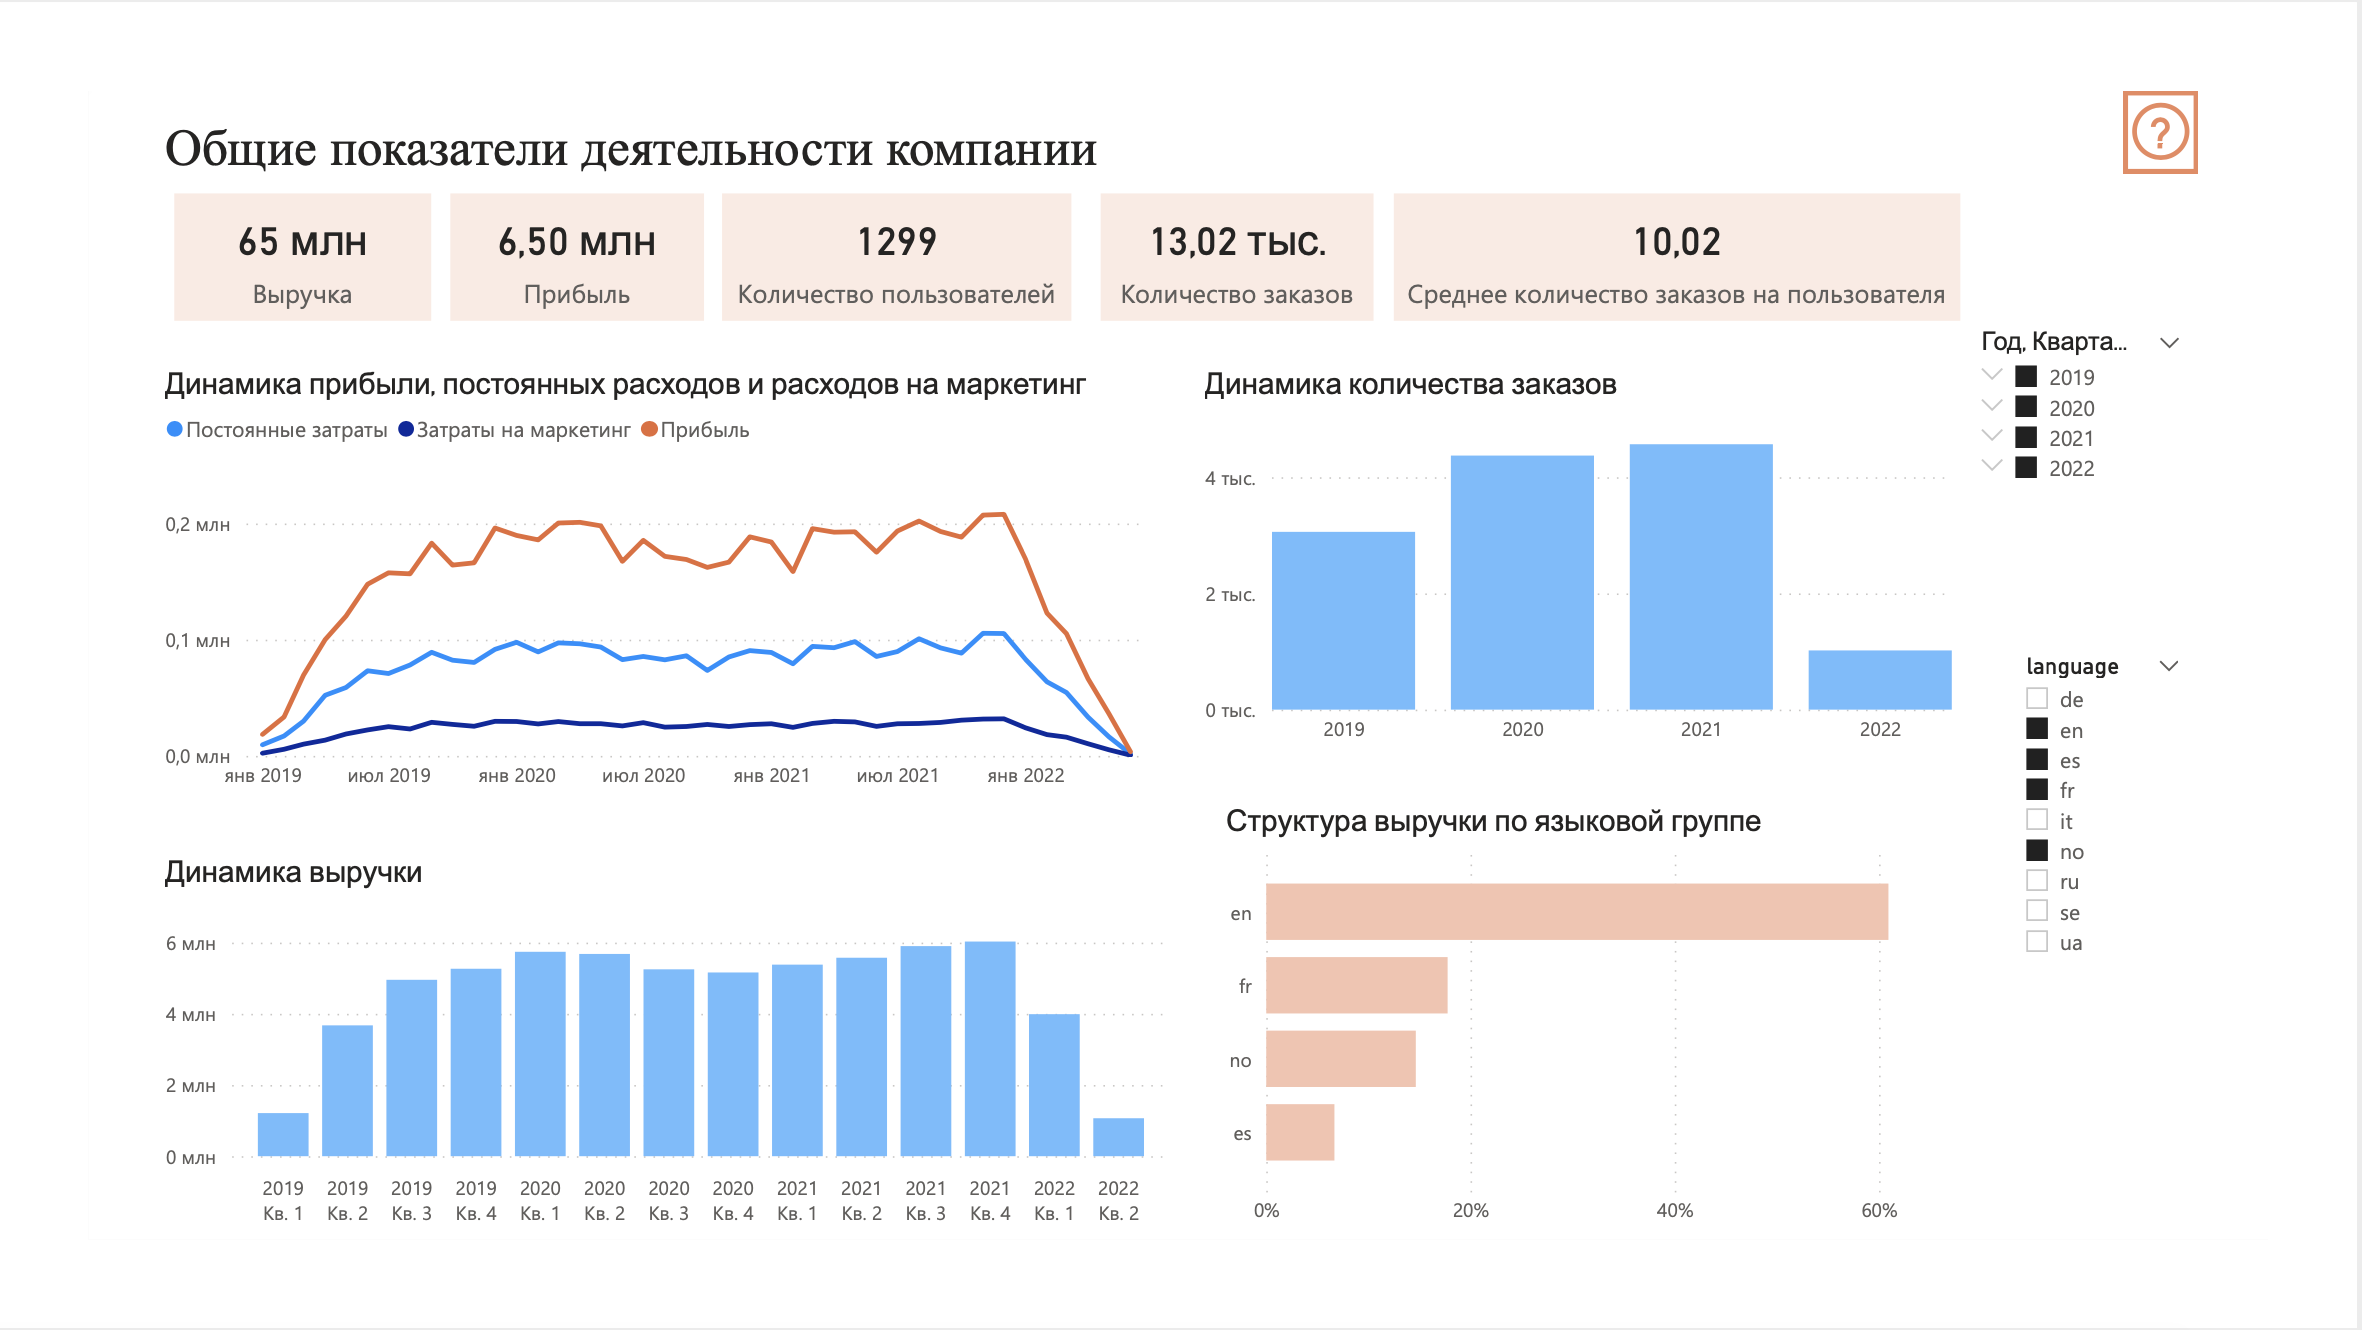

This screenshot's page, from the dashboard's own definition file:
{"tool":"powerbi","page":{"name":"Общие данные","canvas":[1280,720],"ordinal":1},"visuals":[{"type":"slicer","fields":{"Values":["Все пользователи.language"]},"box":[1158.6,346.6,121.4,204.7],"z":0},{"type":"slicer","fields":{"Values":["Все пользователи.created_date.Изменение.Иерархия дат.Год","Все пользователи.created_date.Изменение.Иерархия дат.Квартал","Все пользователи.created_date.Изменение.Иерархия дат.Месяц","Все пользователи.created_date.Изменение.Иерархия дат.День"]},"box":[1130,143.9,150,203.6],"z":1000},{"type":"textbox","box":[0,12.2,1205,52.1],"z":2000},{"type":"card","fields":{"Values":["Sum(Все пользователи.transaction_value)"]},"box":[10.7,64.3,160.8,79.6],"z":3000},{"type":"card","fields":{"Values":["Sum(Все пользователи.commission)"]},"box":[183.7,64.3,159.2,79.6],"z":4000},{"type":"card","fields":{"Values":["Все пользователи.Среднее количество заказов на пользователя"]},"box":[774.7,64.3,355.2,79.6],"z":5000},{"type":"card","fields":{"Values":["Count(Все пользователи.user_id)"]},"box":[353.7,64.3,218.9,79.6],"z":6000},{"type":"card","fields":{"Values":["Count(Все пользователи.order_id)"]},"box":[591,64.3,171.5,79.6],"z":7000},{"type":"clusteredColumnChart","title":"Динамика выручки","fields":{"Category":["Все пользователи.created_date.Изменение.Иерархия дат.Год","Все пользователи.created_date.Изменение.Иерархия дат.Квартал","Все пользователи.created_date.Изменение.Иерархия дат.Месяц","Все пользователи.created_date.Изменение.Иерархия дат.День"],"Y":["Sum(Все пользователи.transaction_value)"]},"box":[0,479.2,640,240.4],"z":8000},{"type":"lineChart","title":"Динамика прибыли, постоянных расходов и расходов на маркетинг","fields":{"Category":["Все пользователи.created_date.Изменение.Иерархия дат.Год","Все пользователи.created_date.Изменение.Иерархия дат.Квартал","Все пользователи.created_date.Изменение.Иерархия дат.Месяц","Все пользователи.created_date.Изменение.Иерархия дат.День"],"Y":["Sum(Все пользователи.fixed_cost)","Sum(Все пользователи.promocode_cost)","Sum(Все пользователи.commission)"]},"box":[0,173,640,274.1],"z":9000},{"type":"clusteredColumnChart","title":"Динамика количества заказов","fields":{"Category":["Все пользователи.created_date.Изменение.Иерархия дат.Год","Все пользователи.created_date.Изменение.Иерархия дат.Квартал","Все пользователи.created_date.Изменение.Иерархия дат.Месяц","Все пользователи.created_date.Изменение.Иерархия дат.День"],"Y":["Count(Все пользователи.order_id)"]},"box":[652.2,173,477.7,245],"z":10000},{"type":"barChart","title":"Структура выручки по языковой группе","fields":{"Category":["Все пользователи.language"],"Y":["Sum(Все пользователи.transaction_value)"]},"box":[664.5,447.1,494.5,272.5],"z":11000},{"type":"actionButton","box":[1232.5,0,47.5,52.1],"z":12000}]}

Visuals, with their boxes in screenshot pixels (x1, y1, x2, y2), scaled from the page's 1280x720 canvas onto the 2362x1330 screenshot:
slicer - Все пользователи.language: [2138, 640, 2361, 1018]
slicer - Все пользователи.created_date.Изменение.Иерархия дат.Год x Все пользователи.created_date.Изменение.Иерархия дат.Квартал: [2085, 266, 2361, 642]
textbox: [0, 23, 2224, 119]
card - Sum(Все пользователи.transaction_value): [20, 119, 316, 266]
card - Sum(Все пользователи.commission): [339, 119, 633, 266]
card - Все пользователи.Среднее количество заказов на пользователя: [1430, 119, 2085, 266]
card - Count(Все пользователи.user_id): [653, 119, 1057, 266]
card - Count(Все пользователи.order_id): [1091, 119, 1407, 266]
"Динамика выручки" clusteredColumnChart: [0, 885, 1181, 1329]
"Динамика прибыли, постоянных расходов и расходов на маркетинг" lineChart: [0, 320, 1181, 826]
"Динамика количества заказов" clusteredColumnChart: [1204, 320, 2085, 772]
"Структура выручки по языковой группе" barChart: [1226, 826, 2139, 1329]
actionButton: [2274, 0, 2361, 96]
